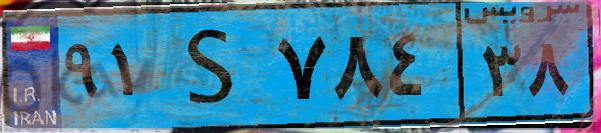1: (110, 28, 158, 98)
3: (475, 38, 525, 113)
4: (385, 28, 445, 110)
7: (270, 28, 330, 110)
8: (330, 28, 385, 110), (525, 38, 570, 115)
9: (57, 26, 110, 100)
S: (158, 12, 270, 120)
